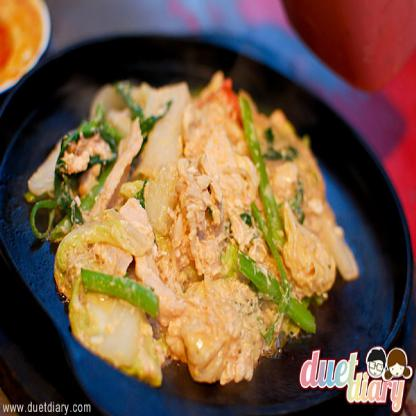Suki: (26, 65, 361, 387)
